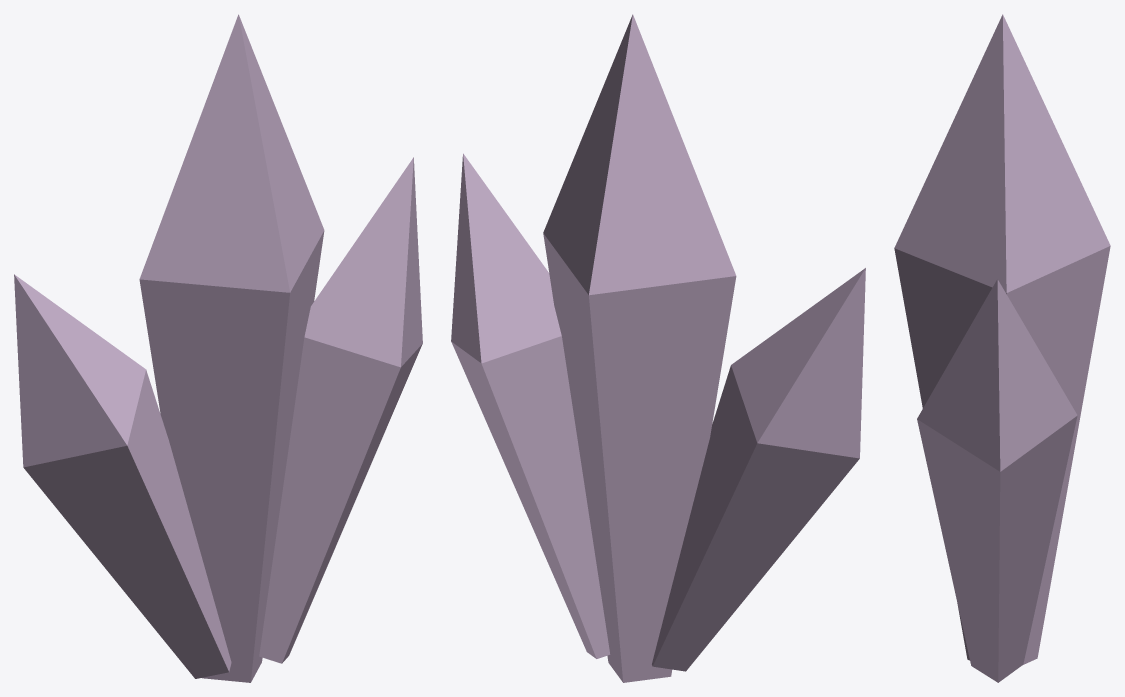
File: CrystalCluster.fbx
3 views of the same model, side by side, from view 1: azimuth 30°, elevation 25°; view 2: azimuth 150°, elevation 25°; view 3: azimuth 270°, elevation 25° (orthographic).
Parts seen in each view (by area): view 1: CrystalCluster2; view 2: CrystalCluster2; view 3: CrystalCluster2.
Boxes of the visible parts, box(x1,y1,x2,y2) form: CrystalCluster2: box(14, 14, 422, 682); CrystalCluster2: box(451, 14, 865, 682); CrystalCluster2: box(894, 14, 1110, 682).
Size of the model in its own units: 1.77 by 2.69 by 0.8142.
